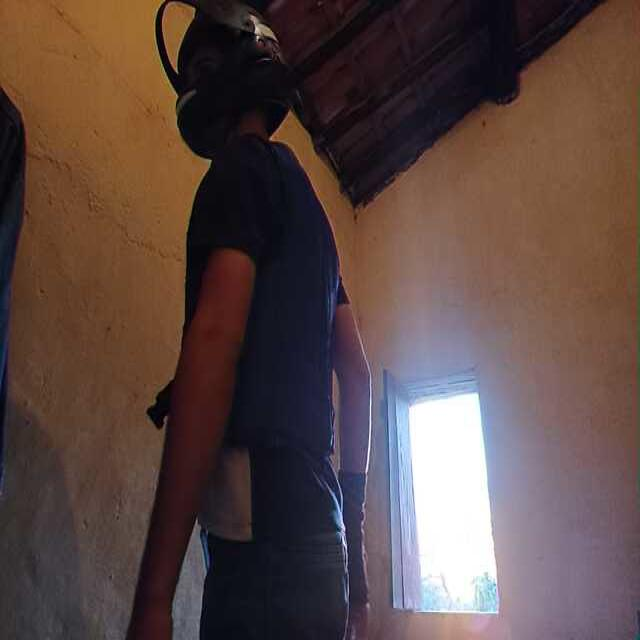capacete: (174, 1, 298, 155)
colete: (165, 156, 338, 454)
pessoa: (133, 0, 388, 640)
